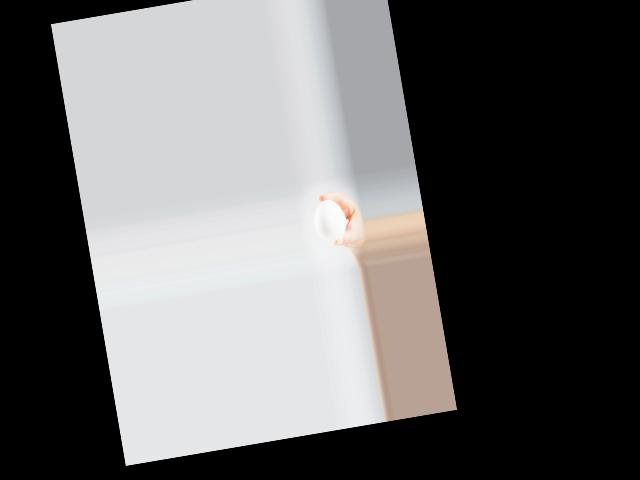egg: (311, 197, 348, 242)
